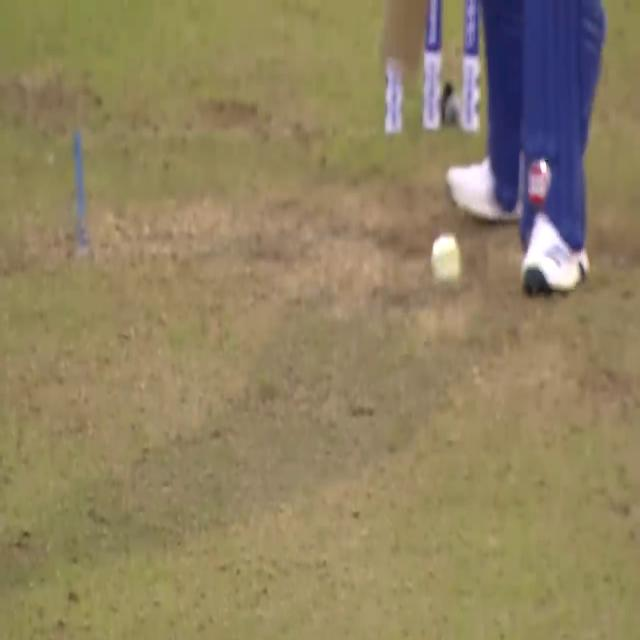ball: (427, 228, 465, 294)
